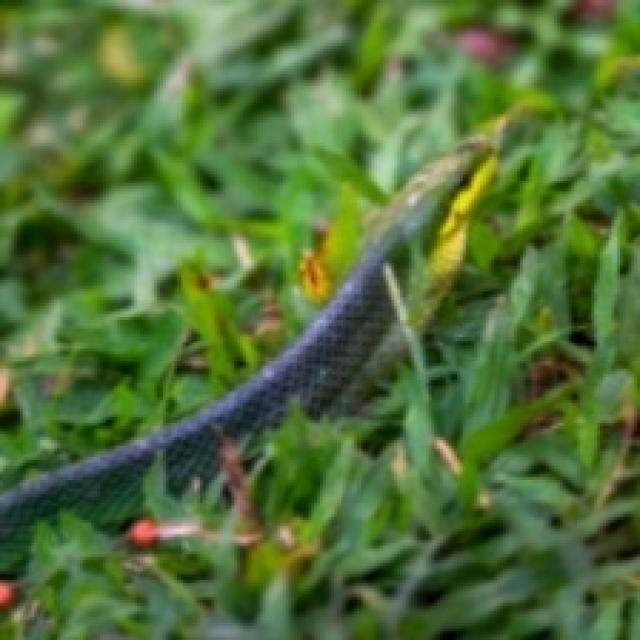red-tailed green ratsnake: (0, 117, 509, 560), (0, 134, 500, 561)
